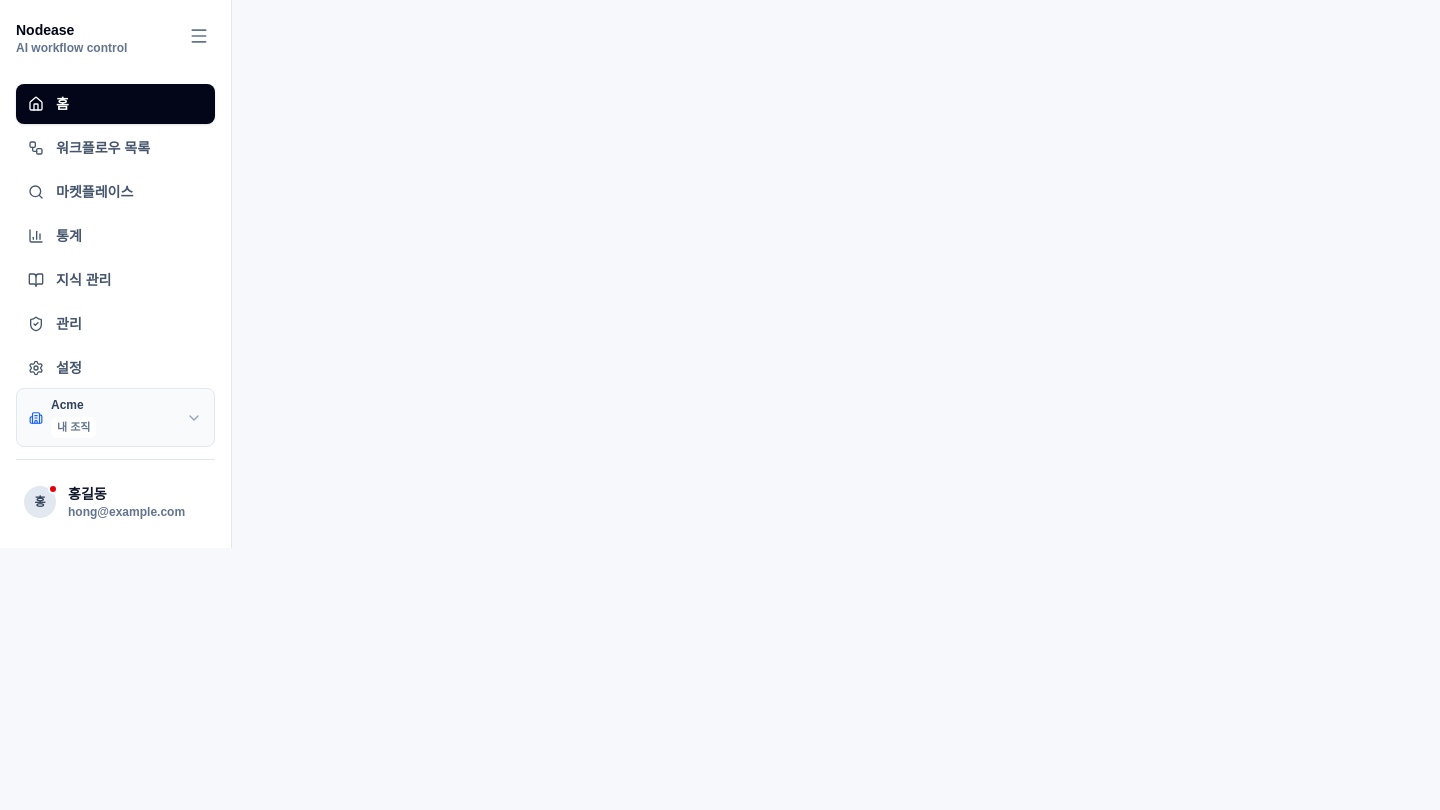
Sidebar notifications › 프로필 드롭다운에 알림 item을 표시하고 overlay를 연다
This screenshot has width=1440, height=810.
What coordinates should you click on to do the following:
click the text "홍길동"
I would click on:
 (87, 494)
Its box is [68,486,107,502].
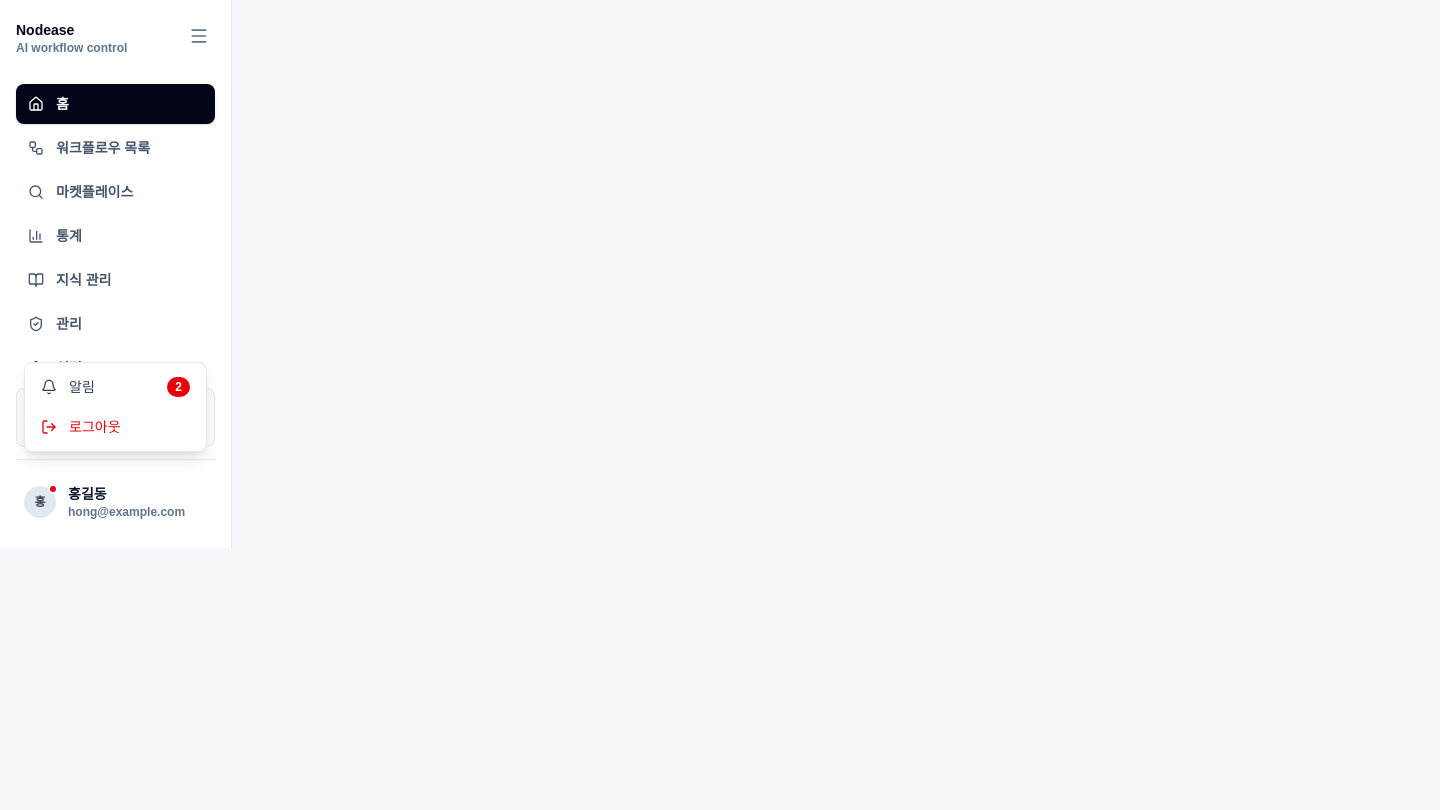
What coordinates should you click on to do the following:
click the button "알림 2"
I would click on:
 (116, 387)
Its box is [25,367,206,407].
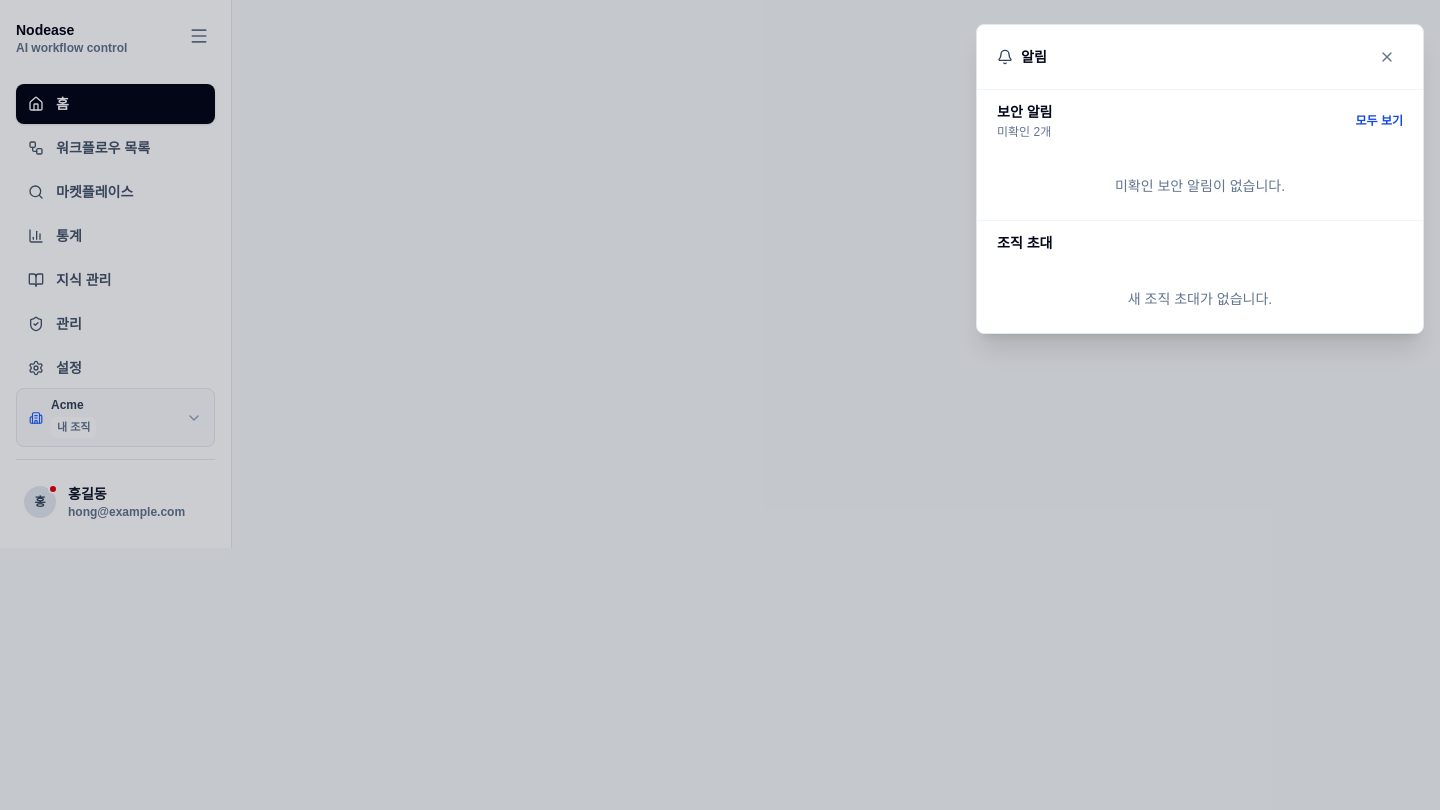
Result: the dialog "알림" is shown at [976,24,1424,334]
